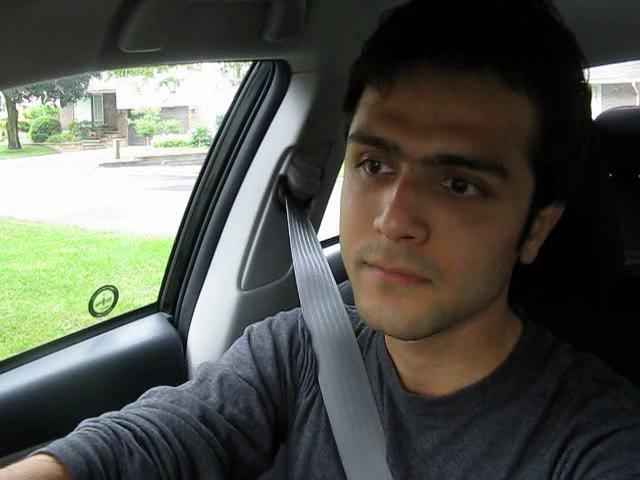no_yawn: (344, 242, 455, 303)
open_eyeL: (341, 144, 406, 186)
open_eyeR: (425, 163, 513, 211)
